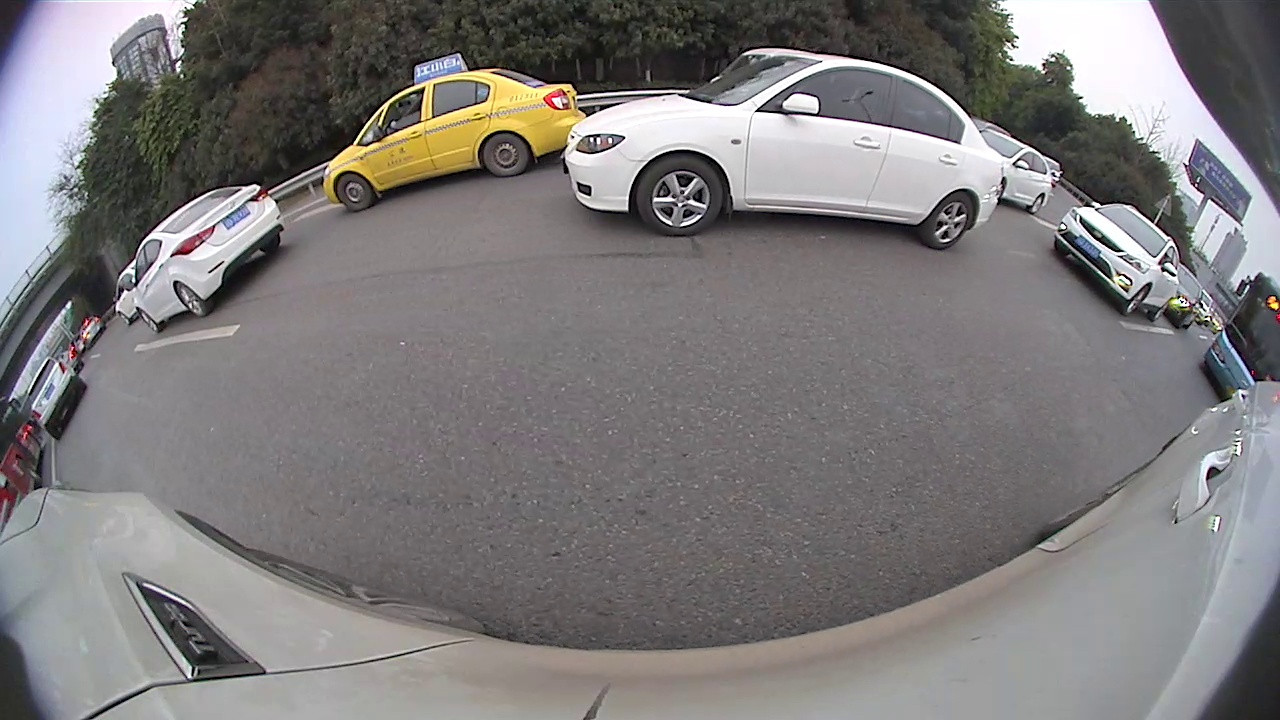bus: (1202, 267, 1279, 398)
car: (560, 50, 1006, 251), (320, 52, 596, 217), (129, 183, 286, 335), (1050, 200, 1182, 326), (976, 128, 1051, 216), (22, 354, 90, 444), (110, 261, 142, 324)
front: (635, 152, 726, 236), (332, 171, 376, 213), (1119, 280, 1153, 317), (137, 309, 162, 336)
rear: (918, 188, 976, 252), (479, 129, 532, 179), (174, 280, 211, 319), (1148, 297, 1173, 326), (1027, 194, 1045, 216)
